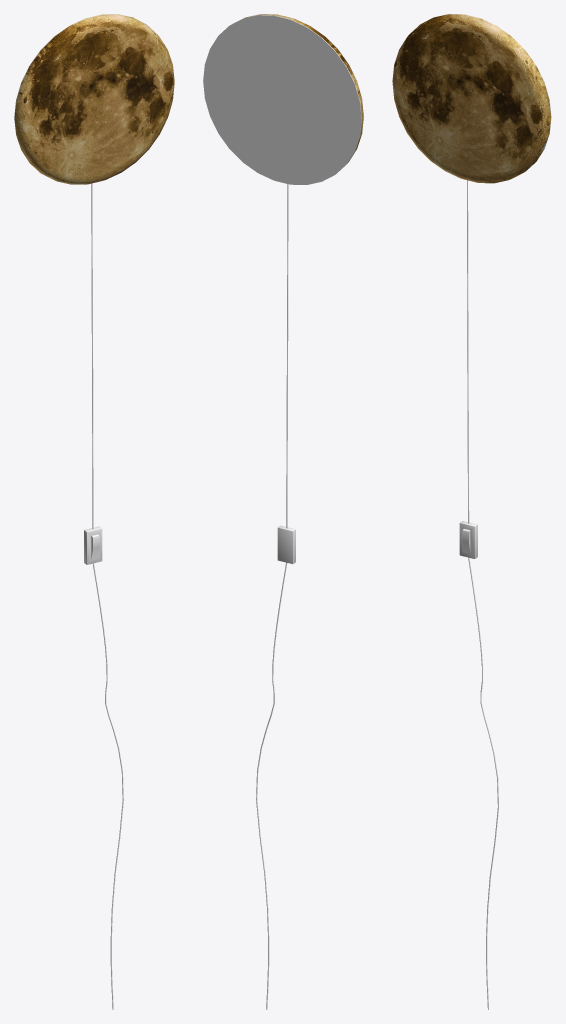
Rendered from Moon lamp.fbx.
3 views of the same model, side by side, from view 1: azimuth 30°, elevation 25°; view 2: azimuth 150°, elevation 25°; view 3: azimuth 330°, elevation 25° (orthographic).
Parts seen in each view (by area): view 1: Moon lamp; view 2: Moon lamp; view 3: Moon lamp.
Boxes of the visible parts, <box> form: Moon lamp: <box>14,14,174,1009</box>; Moon lamp: <box>203,14,363,1009</box>; Moon lamp: <box>392,14,551,1009</box>.
Bounding box in the file's own units: 30 × 180 × 2.
